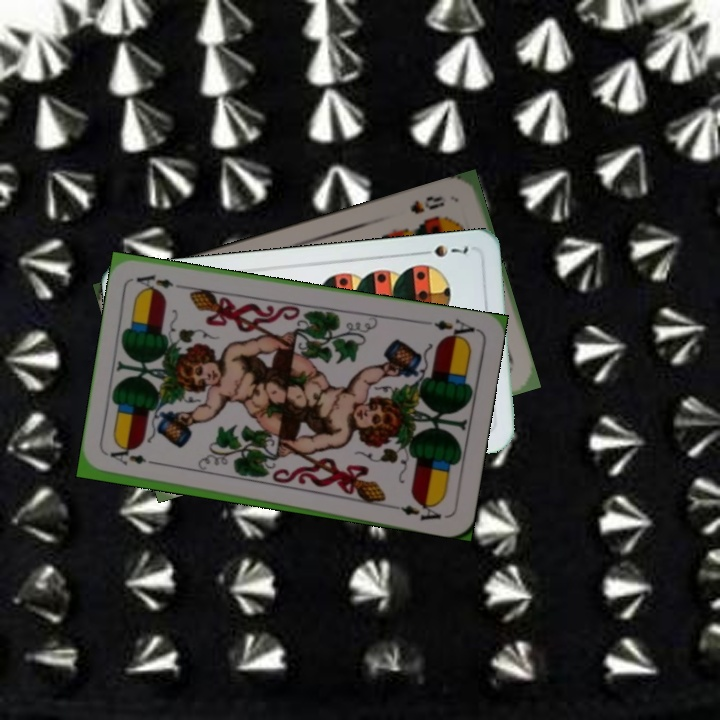EA: (420, 315, 479, 344), (106, 447, 163, 468)
S7: (415, 241, 471, 260)
S8: (406, 192, 447, 217)
